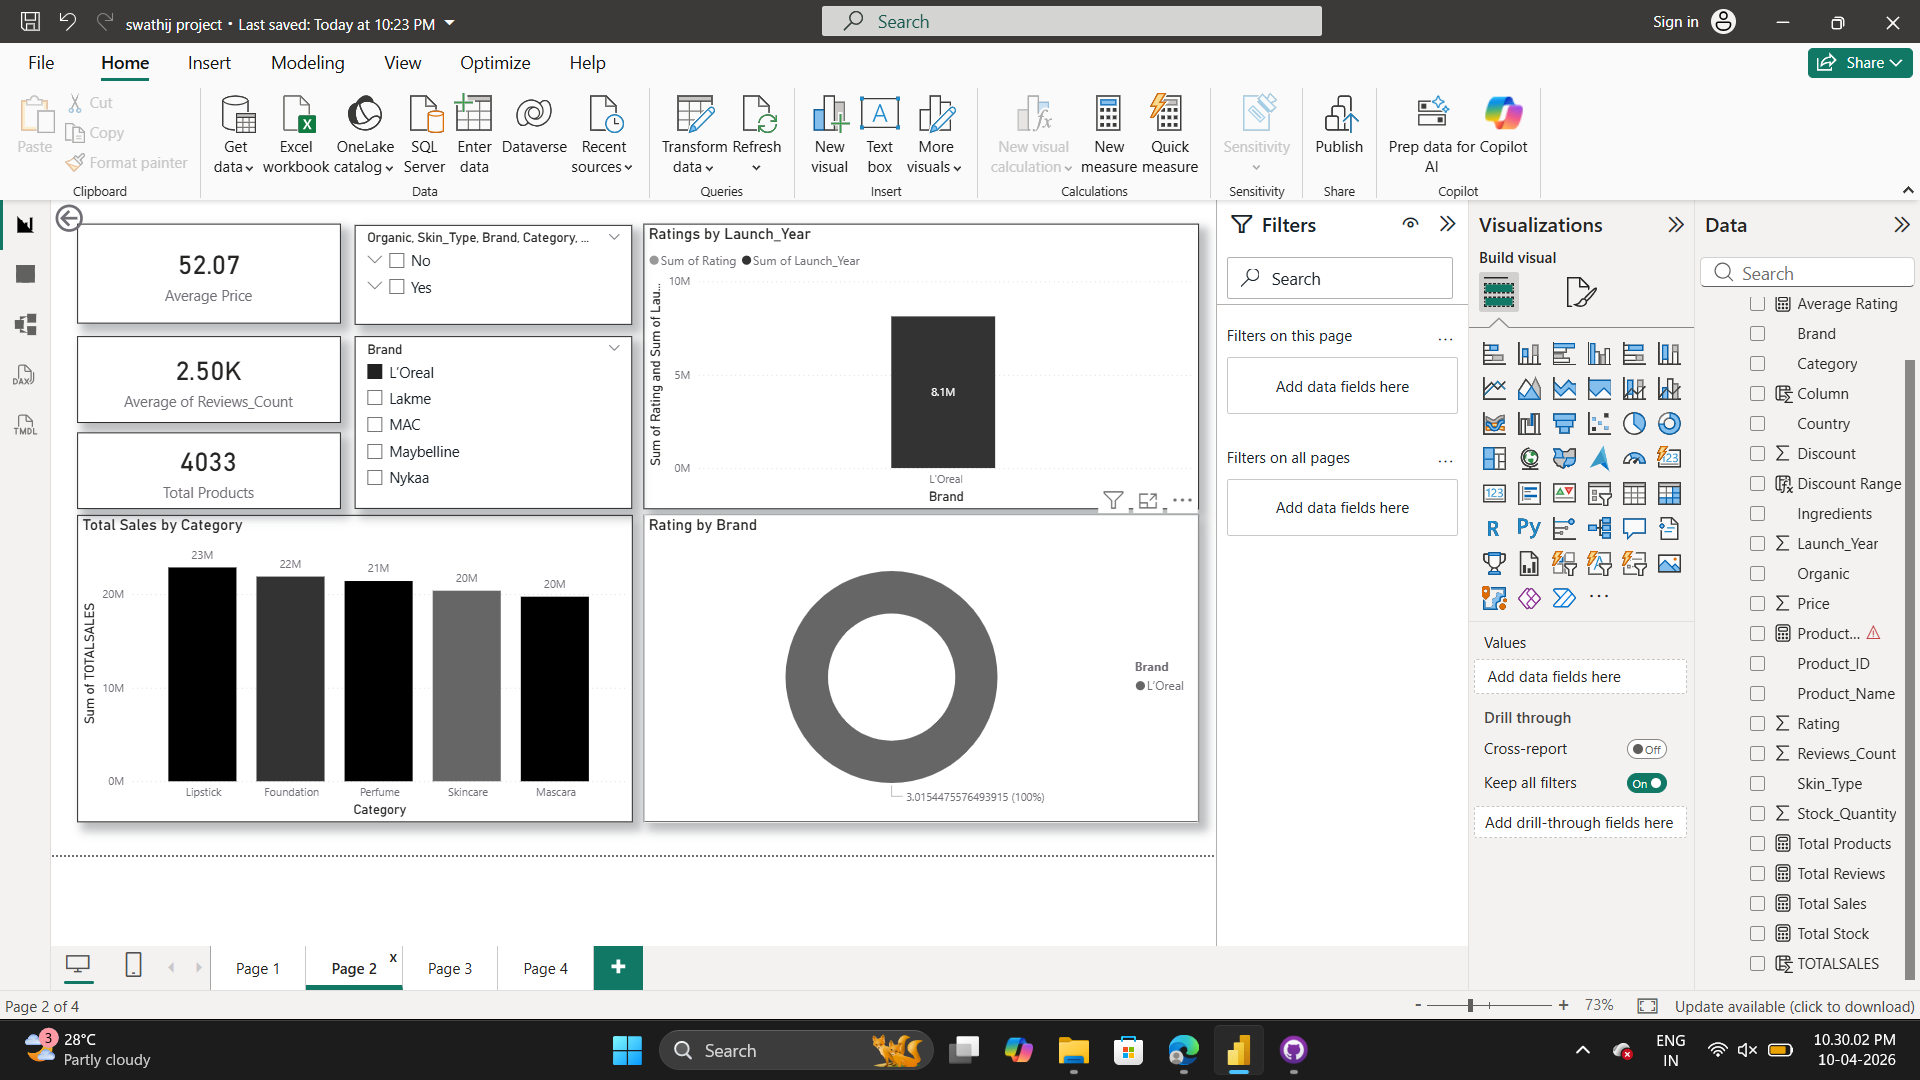

The page's visual inventory and layout, read from the dashboard file:
{"tool":"powerbi","page":{"name":"Page 2","canvas":[1280,720],"ordinal":1},"visuals":[{"type":"card","fields":{"Values":["cosmetics_dataset_20000-1 (1).Average Price"]},"box":[28.5,25.7,289.4,109.8],"z":0},{"type":"actionButton","box":[0,0,100,40],"z":1000},{"type":"columnChart","title":"Ratings by Launch_Year","fields":{"Category":["cosmetics_dataset_20000-1 (1).Brand"],"Y":["Sum(cosmetics_dataset_20000-1 (1).Rating)","Sum(cosmetics_dataset_20000-1 (1).Launch_Year)"]},"box":[651.4,25.7,610.1,313.6],"z":2000},{"type":"slicer","fields":{"Values":["cosmetics_dataset_20000-1 (1).Organic","cosmetics_dataset_20000-1 (1).Skin_Type","cosmetics_dataset_20000-1 (1).Brand","cosmetics_dataset_20000-1 (1).Category","cosmetics_dataset_20000-1 (1).Country","cosmetics_dataset_20000-1 (1).Launch_Year"]},"box":[333.5,27.1,305,109.8],"z":3000},{"type":"columnChart","title":"Total Sales by Category","fields":{"Category":["cosmetics_dataset_20000-1 (1).Category"],"Y":["Sum(cosmetics_dataset_20000-1 (1).TOTALSALES)"]},"box":[28.5,346.4,610.1,337.8],"z":4000},{"type":"card","fields":{"Values":["Avg(cosmetics_dataset_20000-1 (1).Reviews_Count)"]},"box":[28.5,149.7,289.4,95.5],"z":5000},{"type":"donutChart","title":"Rating by Brand","fields":{"Category":["cosmetics_dataset_20000-1 (1).Brand"],"Y":["cosmetics_dataset_20000-1 (1).Average Rating"]},"box":[651.4,346.4,610.1,337.8],"z":6000},{"type":"card","fields":{"Values":["cosmetics_dataset_20000-1 (1).Total Products"]},"box":[28.5,255.1,289.4,84.1],"z":7000},{"type":"slicer","fields":{"Values":["cosmetics_dataset_20000-1 (1).Brand"]},"box":[333.5,149.7,305,189.6],"z":8000}]}

Visuals, with their boxes on the page's 1280x720 design canvas (x1, y1, x2, y2). These are canvas units, not pixel positions in the 1920x1080 screenshot, which may show the page scaled, cropped or inside an application window:
card - cosmetics_dataset_20000-1 (1).Average Price: (28, 26, 318, 136)
actionButton: (0, 0, 100, 40)
"Ratings by Launch_Year" columnChart: (651, 26, 1262, 339)
slicer - cosmetics_dataset_20000-1 (1).Organic x cosmetics_dataset_20000-1 (1).Skin_Type: (334, 27, 638, 137)
"Total Sales by Category" columnChart: (28, 346, 639, 684)
card - Avg(cosmetics_dataset_20000-1 (1).Reviews_Count): (28, 150, 318, 245)
"Rating by Brand" donutChart: (651, 346, 1262, 684)
card - cosmetics_dataset_20000-1 (1).Total Products: (28, 255, 318, 339)
slicer - cosmetics_dataset_20000-1 (1).Brand: (334, 150, 638, 339)
